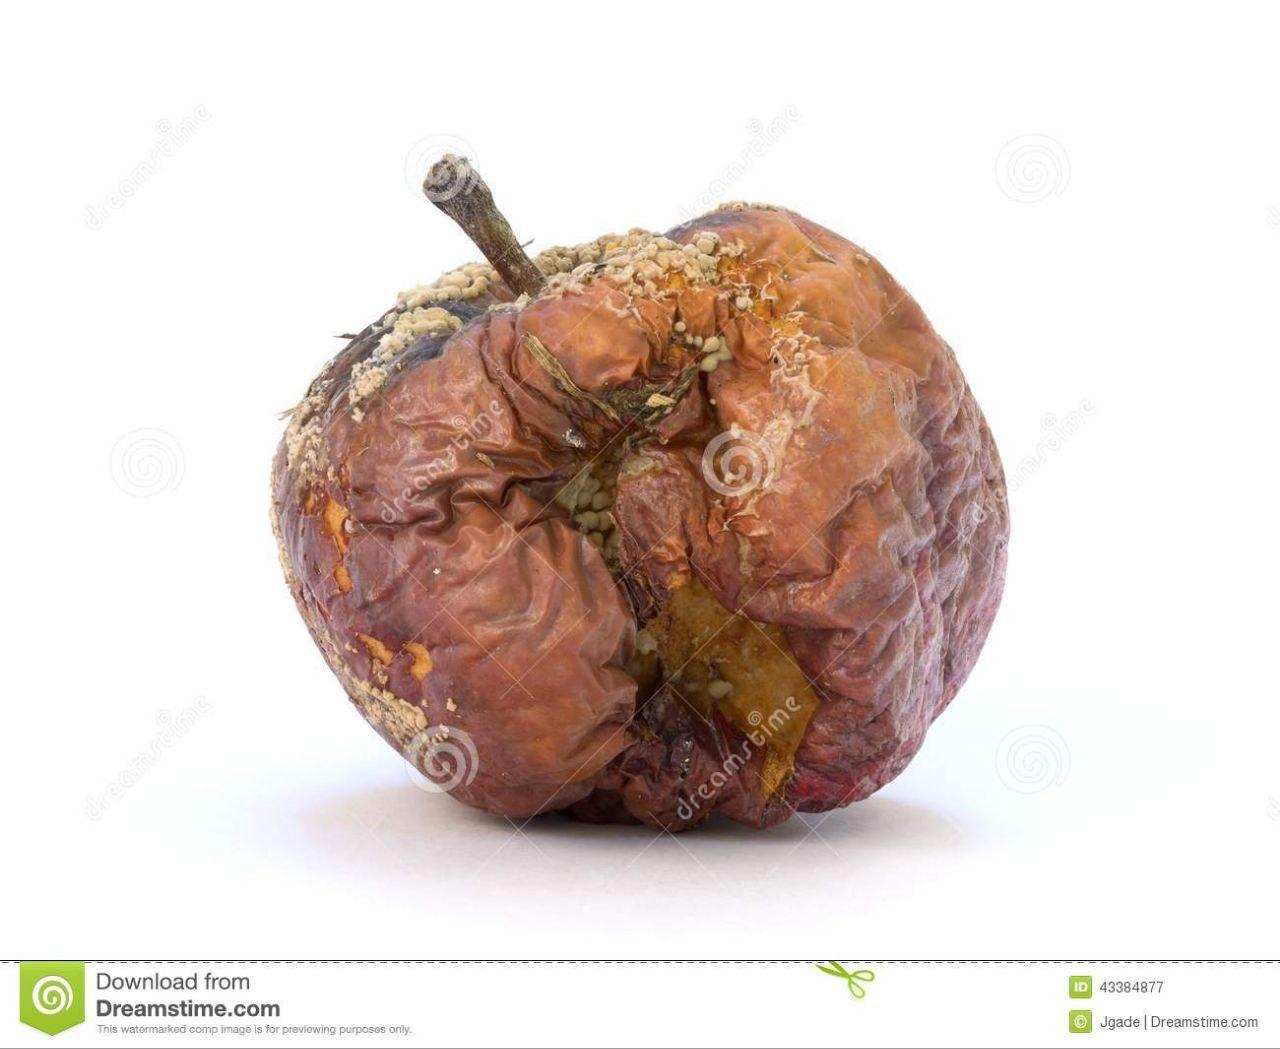Apple: (266, 207, 1010, 832)
